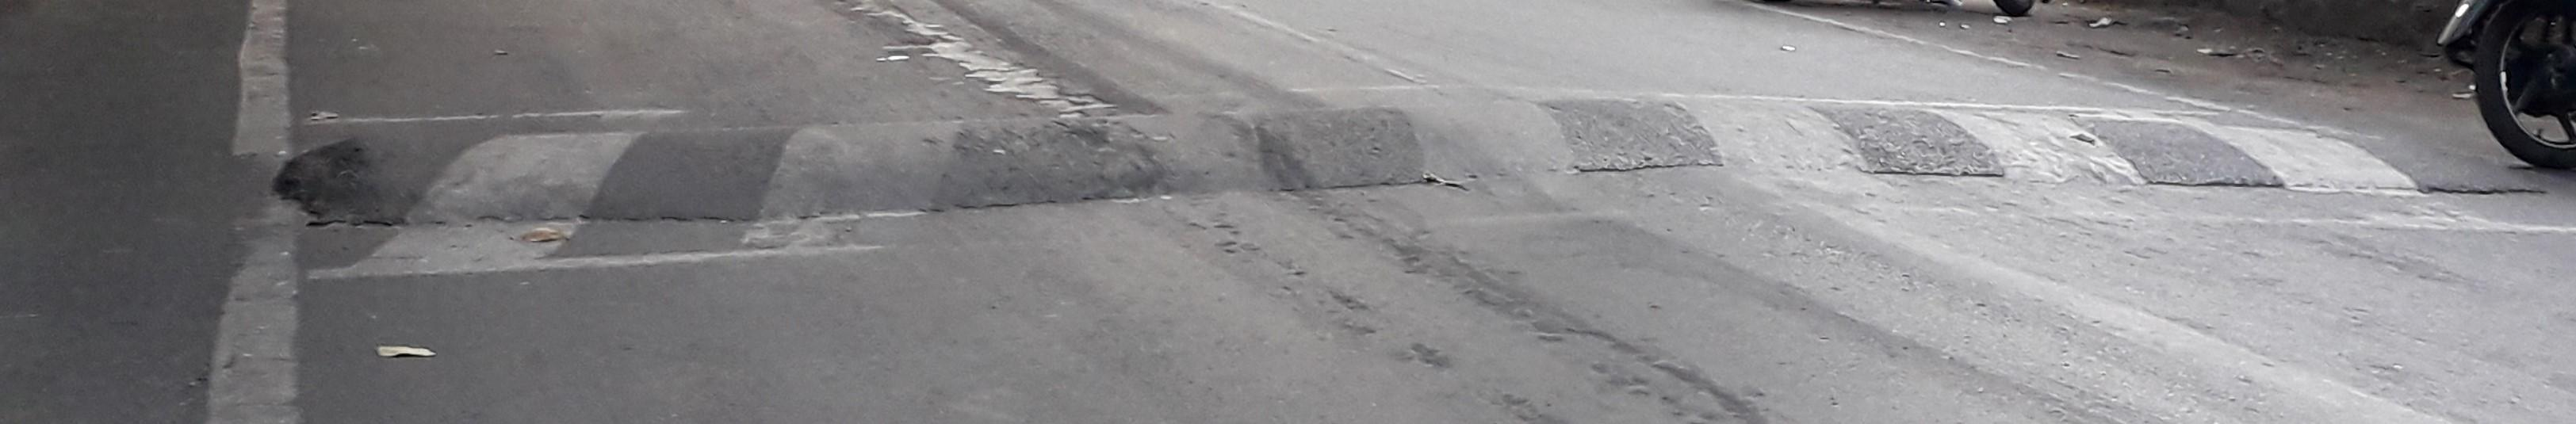speed-bump: (254, 104, 2517, 251)
